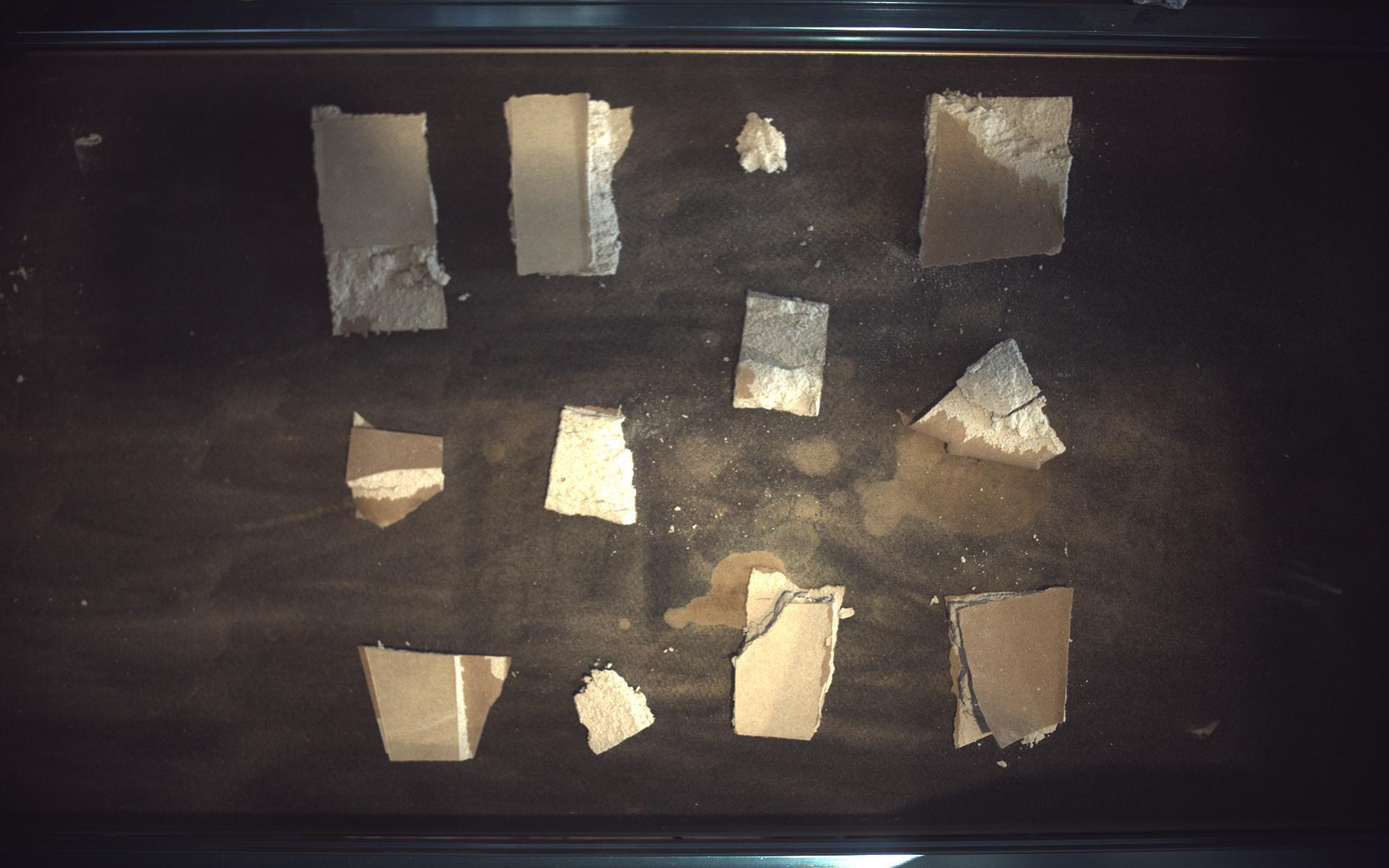gypsum_board: (311, 104, 449, 335), (922, 90, 1075, 266), (504, 92, 633, 275), (948, 587, 1076, 749), (912, 339, 1069, 469), (734, 570, 846, 741), (359, 644, 511, 763), (734, 291, 831, 417), (347, 412, 445, 529), (545, 407, 637, 525), (574, 665, 655, 756), (736, 111, 789, 171)
